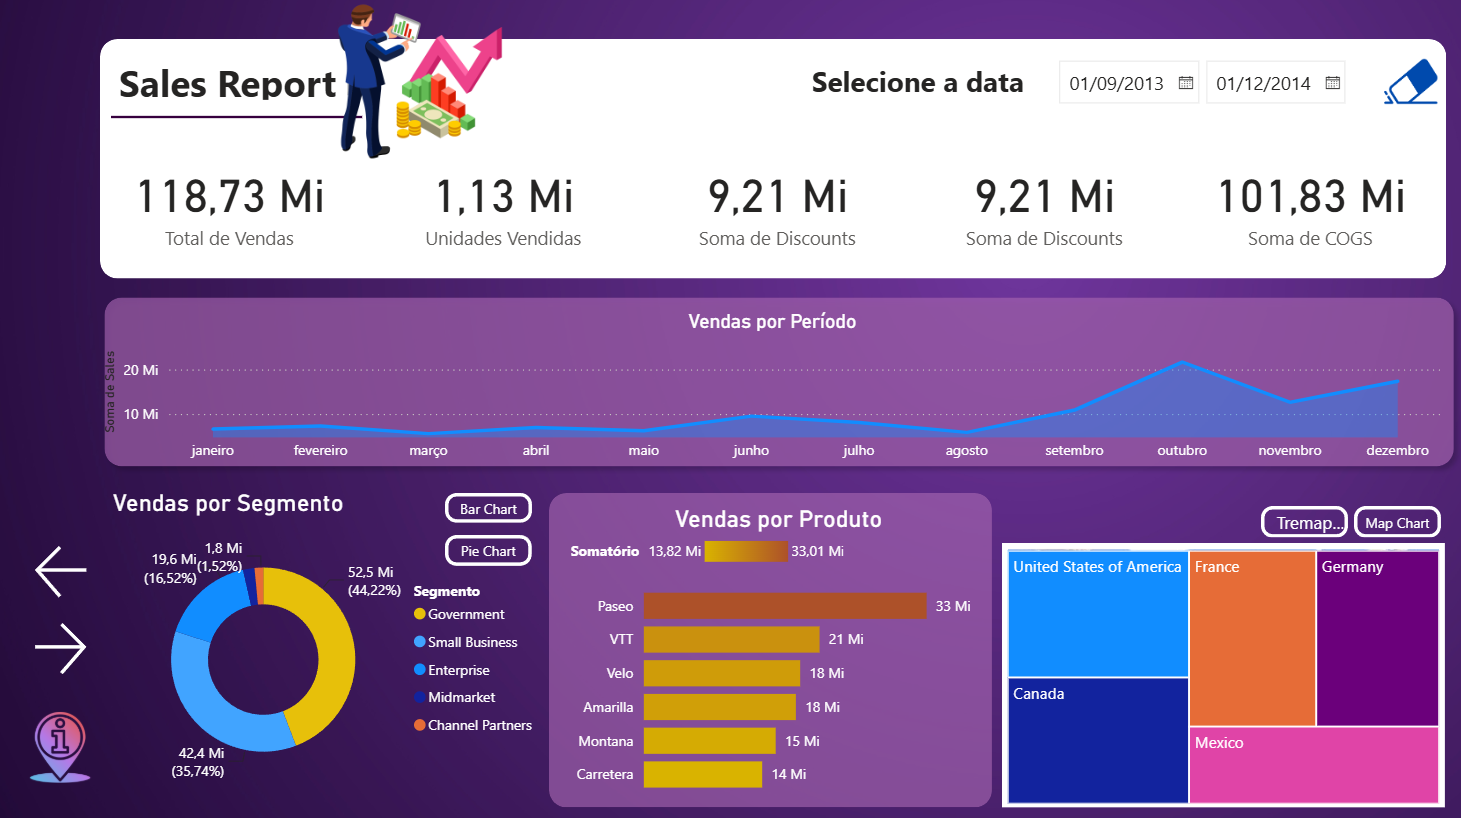

The page's visual inventory and layout, read from the dashboard file:
{"tool":"powerbi","page":{"name":"Principal","canvas":[1280,720],"ordinal":1},"visuals":[{"type":"image","title":"fundo_purple","box":[0,0,1280.3,720],"z":0},{"type":"shape","box":[95.8,41.1,1161.3,206.6],"z":0,"group":"g4"},{"type":"shape","box":[90.5,255.5,1181.8,163.7],"z":0,"group":"g3"},{"type":"donutChart","title":"Vendas por Segmento","fields":{"Y":["Sum(financials. Sales)"],"Category":["financials.Segment"]},"box":[102,429.7,380.5,271.3],"z":0,"group":"g2"},{"type":"map","title":"Sales x Country","fields":{"Category":["financials.Country"],"Size":["Sum(financials. Sales)"]},"box":[873.8,476.1,382,228.1],"z":0,"group":"g1"},{"type":"shape","box":[105.6,92.3,216.7,32.8],"z":1000,"group":"g4"},{"type":"areaChart","title":"Vendas por Período","fields":{"Category":["financials.Date.Variation.Hierarquia de datas.Trimestre","financials.Date.Variation.Hierarquia de datas.Mês"],"Y":["Sum(financials. Sales)"]},"box":[94.3,274.7,1163.2,139.7],"z":1000,"group":"g3"},{"type":"treemap","title":"Sales x Country","fields":{"Group":["financials.Country"],"Values":["Sum(financials. Sales)"]},"box":[873.8,477.5,382,228.1],"z":1000,"group":"g1"},{"type":"actionButton","title":"Botão - Next","box":[32.4,539.2,58,56.3],"z":1000},{"type":"slicer","fields":{"Values":["financials.Date"]},"box":[909.9,50.5,272.2,55.6],"z":2000,"group":"g4"},{"type":"actionButton","title":"Botão - bar","box":[393.4,432.9,75.1,25.6],"z":2000,"group":"g2"},{"type":"shape","box":[482.9,433.4,382.2,271.3],"z":2000},{"type":"actionButton","title":"Botão - map","box":[1177.5,444.2,75.1,27.3],"z":2000,"group":"g1"},{"type":"textbox","box":[704.6,56.2,199.6,45.6],"z":3000,"group":"g4"},{"type":"group","id":"g1","title":"Sales x país","box":[873.8,444.2,382,261.4],"z":3000},{"type":"actionButton","title":"Botão - tremap","box":[1097.3,444.2,75.1,27.3],"z":3000,"group":"g1"},{"type":"actionButton","title":"Botão -pie","box":[393.2,469.1,74.8,26.6],"z":3000,"group":"g2"},{"type":"card","fields":{"Values":["Sum(financials.Units Sold)"]},"box":[338.3,130.3,211,105.5],"z":4000,"group":"g4"},{"type":"clusteredBarChart","title":"Vendas por Produto","fields":{"Y":["Sum(financials. Sales)"],"Category":["financials.Product"]},"box":[496.5,443.6,368.5,261.1],"z":4000},{"type":"textbox","box":[107,50.9,215.2,48.5],"z":5000,"group":"g4"},{"type":"group","id":"g2","title":"Sales x Segmento","box":[94.9,429.7,387.6,271.8],"z":5000},{"type":"actionButton","box":[1196.4,54.7,59.9,51.3],"z":6000,"group":"g4"},{"type":"group","id":"g3","title":"Perspectiva temporal das vendas","box":[90.5,255.5,1181.8,163.7],"z":6000},{"type":"group","id":"g4","title":"Filtro por data","box":[95.8,0,1161.8,247.5],"z":7000},{"type":"card","fields":{"Values":["Sum(financials.Discounts)"]},"box":[804.4,130.3,211,105.5],"z":7000,"group":"g4"},{"type":"image","title":"clean","box":[1196.4,50.5,59.9,55.6],"z":8000,"group":"g4"},{"type":"image","box":[26.1,615.8,71.5,72.9],"z":8000},{"type":"card","fields":{"Values":["Sum(financials.Discounts)"]},"box":[574.9,130.3,211,105.5],"z":9000,"group":"g4"},{"type":"actionButton","box":[31.6,615.8,63.2,72.9],"z":9000},{"type":"card","fields":{"Values":["Sum(financials.COGS)"]},"box":[1033.9,130.3,211,105.5],"z":10000,"group":"g4"},{"type":"actionButton","title":"Botão - Next","box":[34.3,472.4,57.5,56.5],"z":10000},{"type":"card","fields":{"Values":["Sum(financials. Sales)"]},"box":[101.7,130.3,211,105.5],"z":11000,"group":"g4"},{"type":"image","box":[265.1,0,252.9,155.7],"z":12000,"group":"g4"}]}

Visuals, with their boxes in screenshot pixels (x1, y1, x2, y2), scaled from the page's 1280x720 canvas onto the 1461x818 screenshot:
"fundo_purple" image: [left=0, top=0, right=1460, bottom=817]
shape: [left=109, top=47, right=1435, bottom=281]
shape: [left=103, top=290, right=1452, bottom=476]
"Vendas por Segmento" donutChart: [left=116, top=488, right=551, bottom=796]
"Sales x Country" map: [left=997, top=541, right=1433, bottom=800]
shape: [left=121, top=105, right=368, bottom=142]
"Vendas por Período" areaChart: [left=108, top=312, right=1435, bottom=471]
"Sales x Country" treemap: [left=997, top=542, right=1433, bottom=802]
"Botão - Next" actionButton: [left=37, top=613, right=103, bottom=677]
slicer - financials.Date: [left=1039, top=57, right=1349, bottom=121]
"Botão - bar" actionButton: [left=449, top=492, right=535, bottom=521]
shape: [left=551, top=492, right=987, bottom=801]
"Botão - map" actionButton: [left=1344, top=505, right=1430, bottom=536]
textbox: [left=804, top=64, right=1032, bottom=116]
"Sales x país" group: [left=997, top=505, right=1433, bottom=802]
"Botão - tremap" actionButton: [left=1252, top=505, right=1338, bottom=536]
"Botão -pie" actionButton: [left=449, top=533, right=534, bottom=563]
card - Sum(financials.Units Sold): [left=386, top=148, right=627, bottom=268]
"Vendas por Produto" clusteredBarChart: [left=567, top=504, right=987, bottom=801]
textbox: [left=122, top=58, right=368, bottom=113]
"Sales x Segmento" group: [left=108, top=488, right=551, bottom=797]
actionButton: [left=1366, top=62, right=1434, bottom=120]
"Perspectiva temporal das vendas" group: [left=103, top=290, right=1452, bottom=476]
"Filtro por data" group: [left=109, top=0, right=1435, bottom=281]
card - Sum(financials.Discounts): [left=918, top=148, right=1159, bottom=268]
"clean" image: [left=1366, top=57, right=1434, bottom=121]
image: [left=30, top=700, right=111, bottom=782]
card - Sum(financials.Discounts): [left=656, top=148, right=897, bottom=268]
actionButton: [left=36, top=700, right=108, bottom=782]
card - Sum(financials.COGS): [left=1180, top=148, right=1421, bottom=268]
"Botão - Next" actionButton: [left=39, top=537, right=105, bottom=601]
card - Sum(financials. Sales): [left=116, top=148, right=357, bottom=268]
image: [left=303, top=0, right=591, bottom=177]
